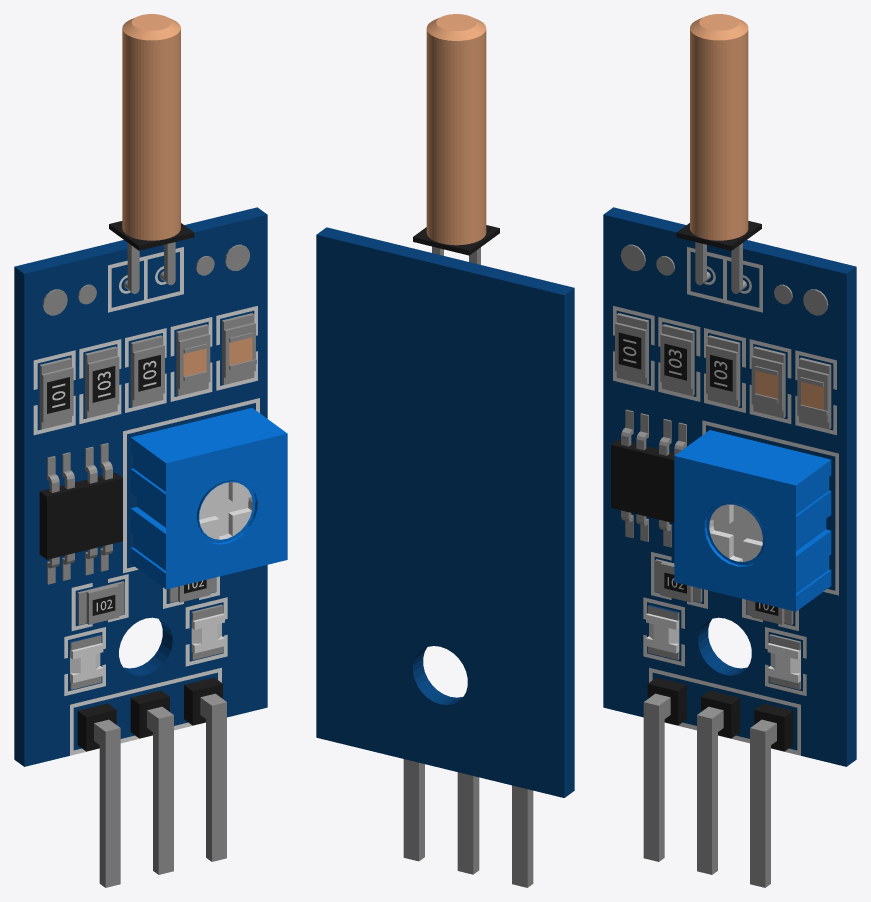
The model's file is TiltSensor.glb.
The picture shows the model from 3 angles, left to right: view 1: azimuth 30°, elevation 25°; view 2: azimuth 150°, elevation 25°; view 3: azimuth 330°, elevation 25°; orthographic projection. The views are drawn at different scales.
Parts seen in each view (by area): view 1: Tilt Sensor, Tilt Sensor.004, Tilt Sensor.001, Tilt Sensor.003, Tilt Sensor.002; view 2: Tilt Sensor, Tilt Sensor.004, Tilt Sensor.002, Tilt Sensor.003, Tilt Sensor.001; view 3: Tilt Sensor, Tilt Sensor.004, Tilt Sensor.001, Tilt Sensor.003, Tilt Sensor.002.
Boxes of the visible parts, left/top/right/bottom form: Tilt Sensor: left=14, top=207, right=287, bottom=766; Tilt Sensor.004: left=109, top=14, right=194, bottom=250; Tilt Sensor.001: left=94, top=719, right=120, bottom=887; Tilt Sensor.003: left=200, top=693, right=226, bottom=861; Tilt Sensor.002: left=147, top=706, right=173, bottom=874; Tilt Sensor: left=316, top=227, right=574, bottom=797; Tilt Sensor.004: left=413, top=14, right=499, bottom=255; Tilt Sensor.002: left=457, top=772, right=479, bottom=874; Tilt Sensor.003: left=403, top=759, right=424, bottom=861; Tilt Sensor.001: left=512, top=785, right=533, bottom=887; Tilt Sensor: left=603, top=207, right=856, bottom=766; Tilt Sensor.004: left=676, top=14, right=761, bottom=250; Tilt Sensor.001: left=643, top=693, right=670, bottom=861; Tilt Sensor.003: left=750, top=719, right=776, bottom=887; Tilt Sensor.002: left=697, top=706, right=723, bottom=874.
Size of the model in its own units: 0.2997 by 0.9892 by 0.097.
